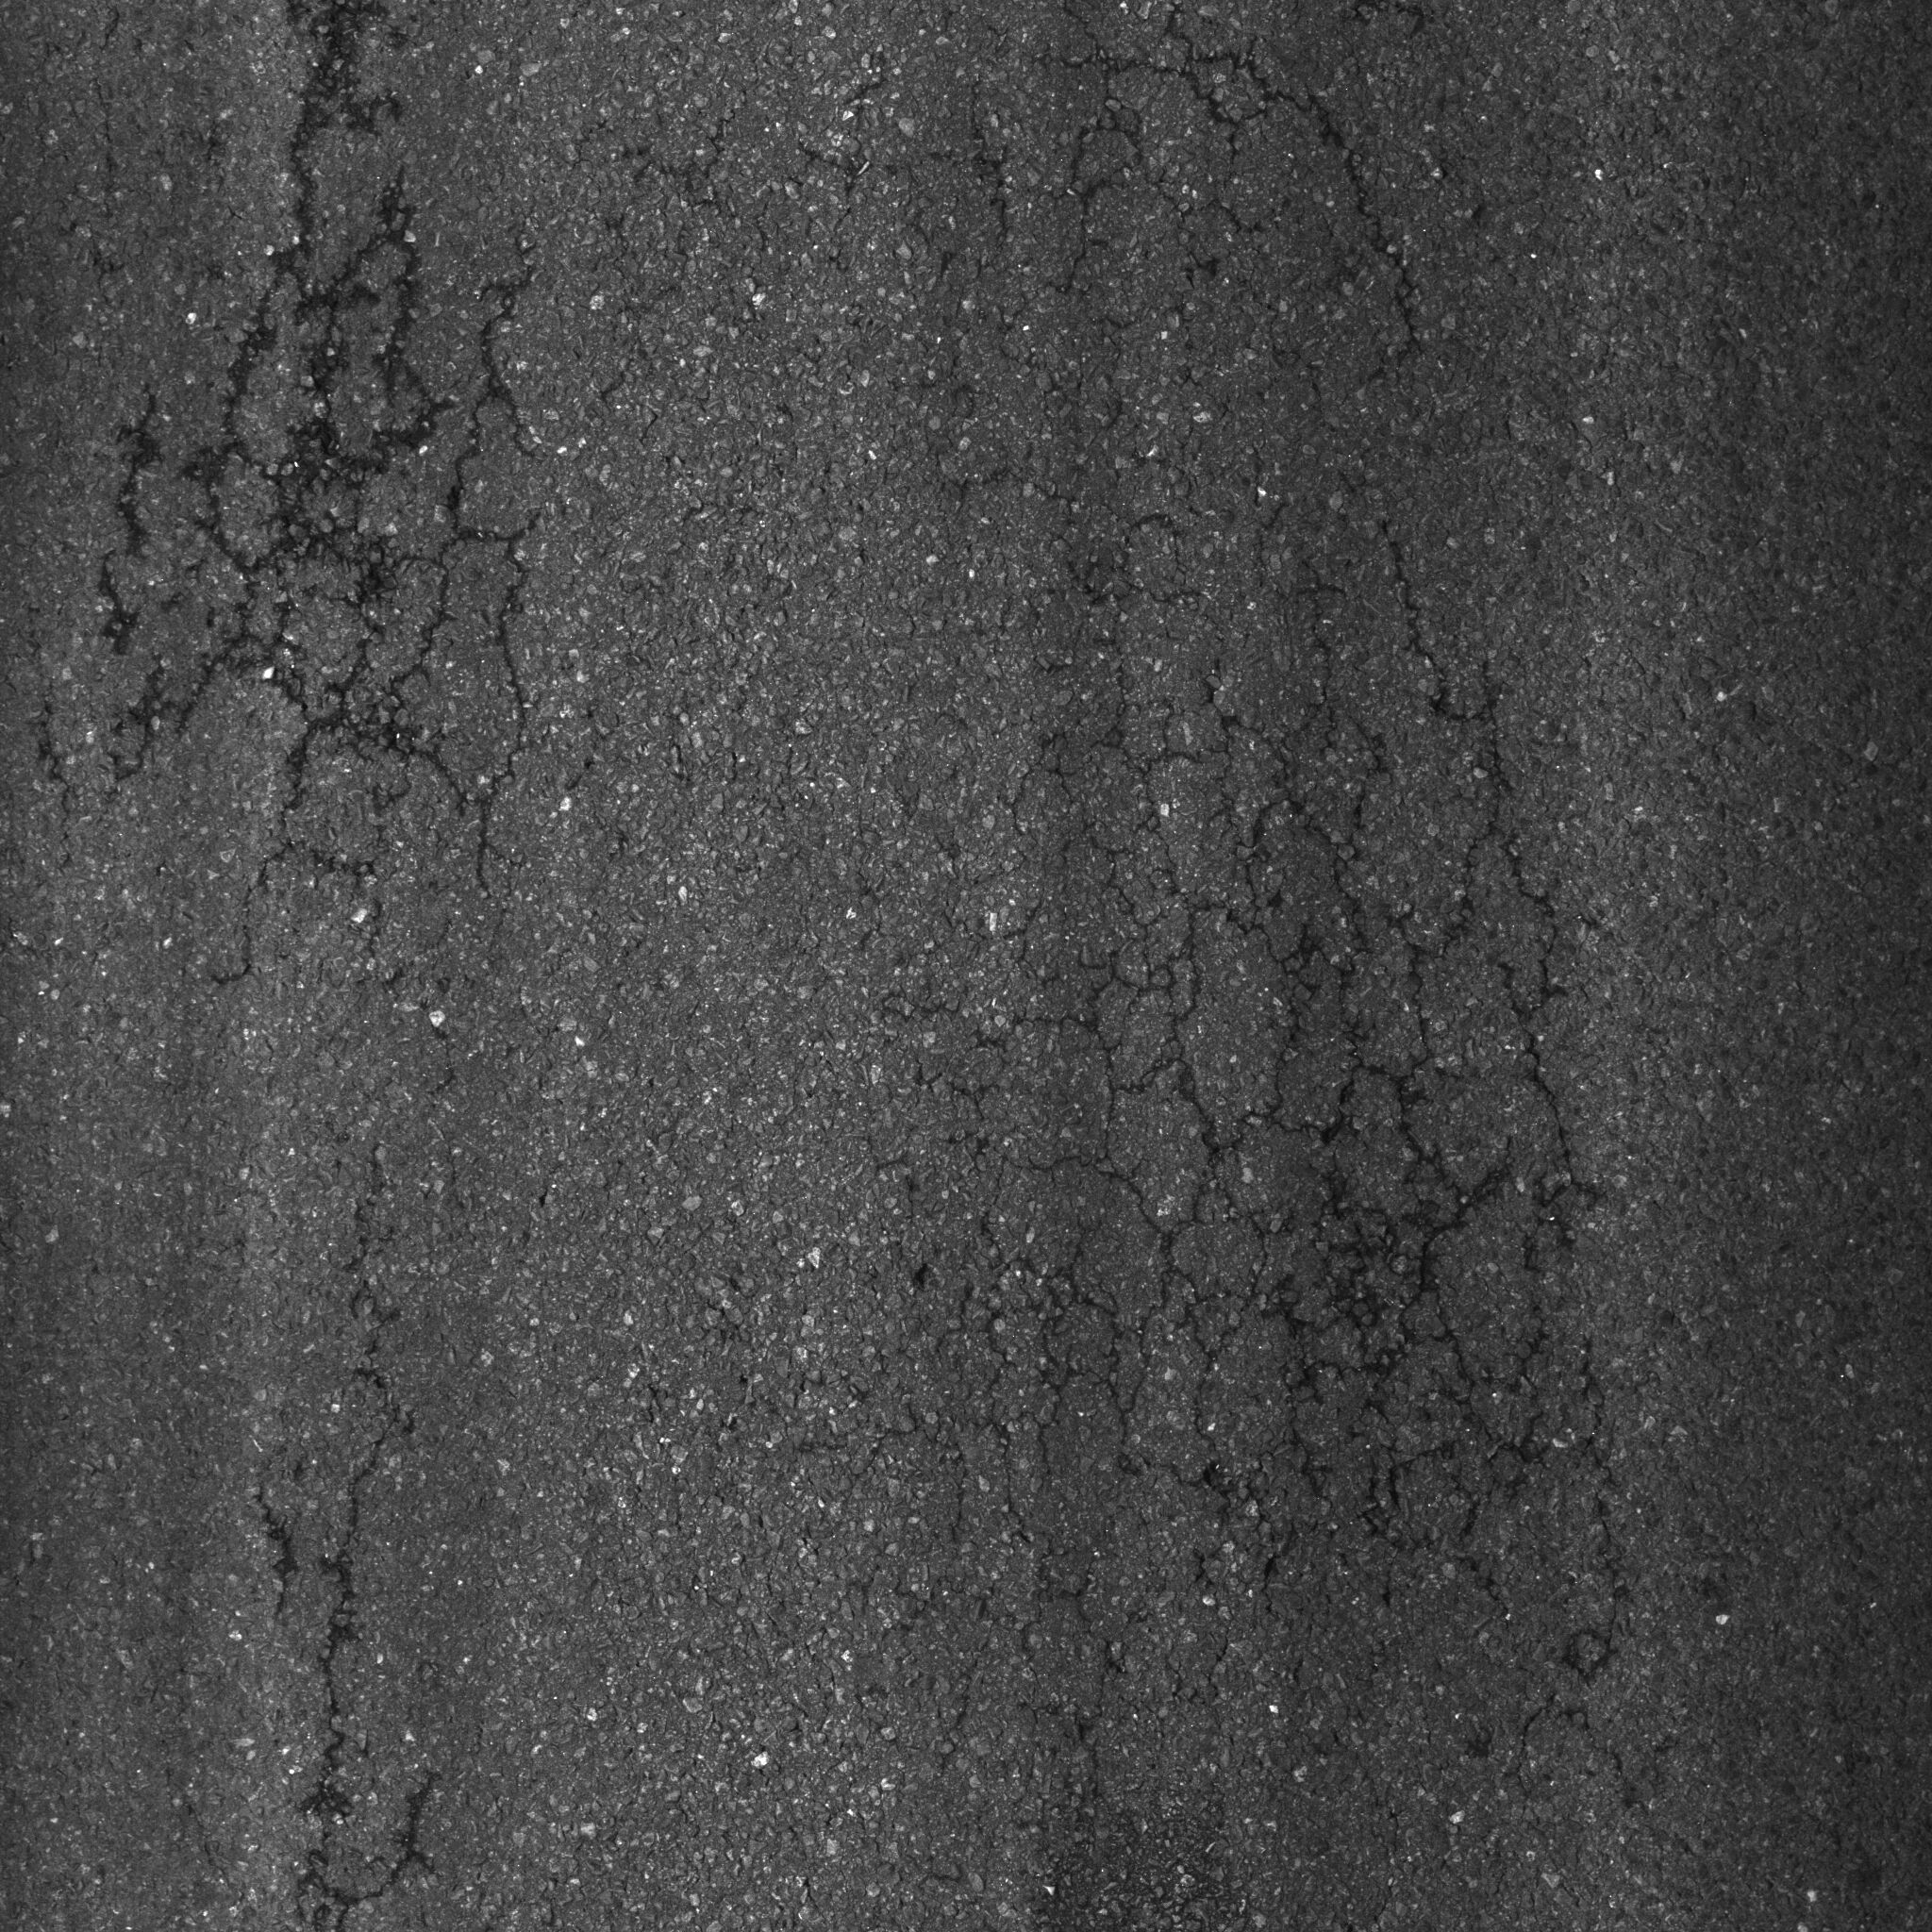alligator: (34, 30, 1698, 1916)
